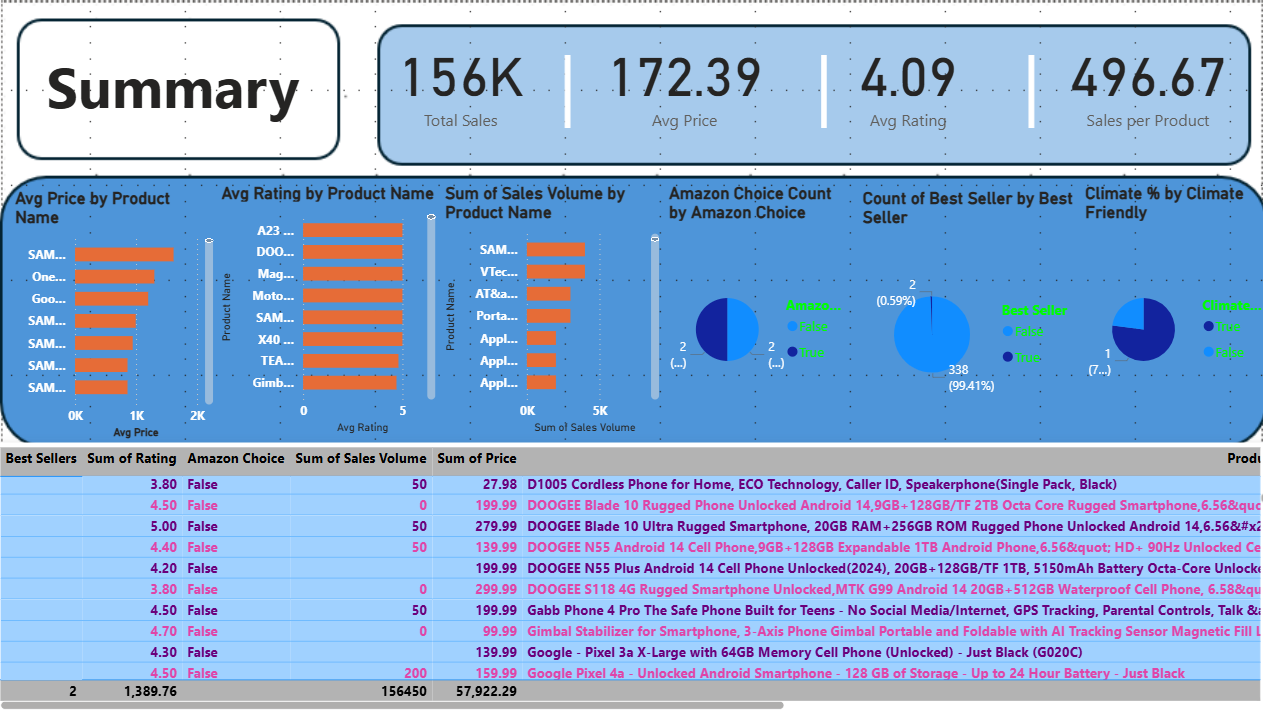

The dashboard page shown, as its layout file describes it:
{"tool":"powerbi","page":{"name":"Page 1","canvas":[1280,720],"ordinal":0},"visuals":[{"type":"clusteredBarChart","fields":{"Category":["phone_search_clean.Product Name"],"Y":["Sum(phone_search_clean.Sales Volume)"]},"box":[446.3,188,224,256],"z":0},{"type":"clusteredBarChart","fields":{"Category":["phone_search_clean.Product Name"],"Y":["phone_search_clean.Avg Price"]},"box":[16,192,208,256],"z":1000},{"type":"clusteredBarChart","fields":{"Category":["phone_search_clean.Product Name"],"Y":["phone_search_clean.Avg Rating"]},"box":[222.3,188,224,256],"z":2000},{"type":"card","fields":{"Values":["phone_search_clean.Total Sales"]},"box":[354.8,6.7,224,160],"z":3000},{"type":"card","fields":{"Values":["phone_search_clean.Avg Price"]},"box":[578.8,6.7,224,160],"z":4000},{"type":"card","fields":{"Values":["phone_search_clean.Avg Rating"]},"box":[802.8,6.7,224,160],"z":5000},{"type":"card","fields":{"Values":["phone_search_clean.Sales per Product"]},"box":[1026.8,6.7,256,160],"z":6000},{"type":"pieChart","fields":{"Category":["phone_search_clean.Best Seller"],"Y":["CountNonNull(phone_search_clean.Best Seller)"]},"box":[864,192,224,256],"z":7000},{"type":"pieChart","fields":{"Category":["phone_search_clean.Amazon Choice"],"Y":["phone_search_clean.Amazon Choice Count"]},"box":[670.3,188,192,256],"z":8000},{"type":"pieChart","fields":{"Category":["phone_search_clean.Climate Friendly"],"Y":["phone_search_clean.Climate %"]},"box":[1086.3,188,192,256],"z":9000},{"type":"tableEx","fields":{"Values":["phone_search_clean.Best Sellers","Sum(phone_search_clean.Rating)","phone_search_clean.Amazon Choice","Sum(phone_search_clean.Sales Volume)","Sum(phone_search_clean.Price)","phone_search_clean.Product Name"]},"box":[0,448,1280,272],"z":10000},{"type":"textbox","box":[560,32,48,112],"z":11000},{"type":"textbox","box":[816,32,32,160],"z":12000},{"type":"textbox","box":[1024,32,32,160],"z":13000},{"type":"textbox","box":[48,48,272,96],"z":14000}]}

Visuals, with their boxes in screenshot pixels (x1, y1, x2, y2), scaled from the page's 1280x720 canvas onto the 1263x712 screenshot:
clusteredBarChart - phone_search_clean.Product Name x Sum(phone_search_clean.Sales Volume): detection(440, 186, 661, 439)
clusteredBarChart - phone_search_clean.Product Name x phone_search_clean.Avg Price: detection(16, 190, 221, 443)
clusteredBarChart - phone_search_clean.Product Name x phone_search_clean.Avg Rating: detection(219, 186, 440, 439)
card - phone_search_clean.Total Sales: detection(350, 7, 571, 165)
card - phone_search_clean.Avg Price: detection(571, 7, 792, 165)
card - phone_search_clean.Avg Rating: detection(792, 7, 1013, 165)
card - phone_search_clean.Sales per Product: detection(1013, 7, 1262, 165)
pieChart - phone_search_clean.Best Seller x CountNonNull(phone_search_clean.Best Seller): detection(853, 190, 1074, 443)
pieChart - phone_search_clean.Amazon Choice x phone_search_clean.Amazon Choice Count: detection(661, 186, 851, 439)
pieChart - phone_search_clean.Climate Friendly x phone_search_clean.Climate %: detection(1072, 186, 1261, 439)
tableEx - phone_search_clean.Best Sellers x Sum(phone_search_clean.Rating): detection(0, 443, 1262, 711)
textbox: detection(553, 32, 600, 142)
textbox: detection(805, 32, 837, 190)
textbox: detection(1010, 32, 1042, 190)
textbox: detection(47, 47, 316, 142)
